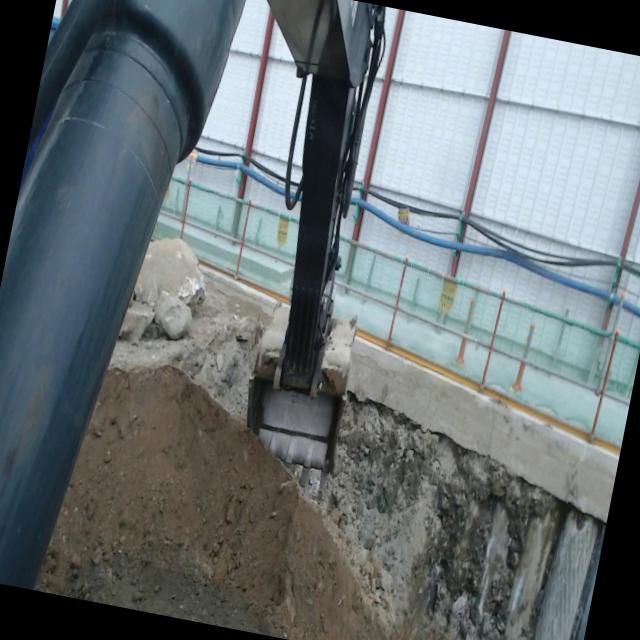red-sand: (35, 367, 459, 640)
rocks: (119, 238, 206, 340)
stone: (133, 238, 207, 310), (154, 291, 192, 339), (119, 301, 154, 341)
